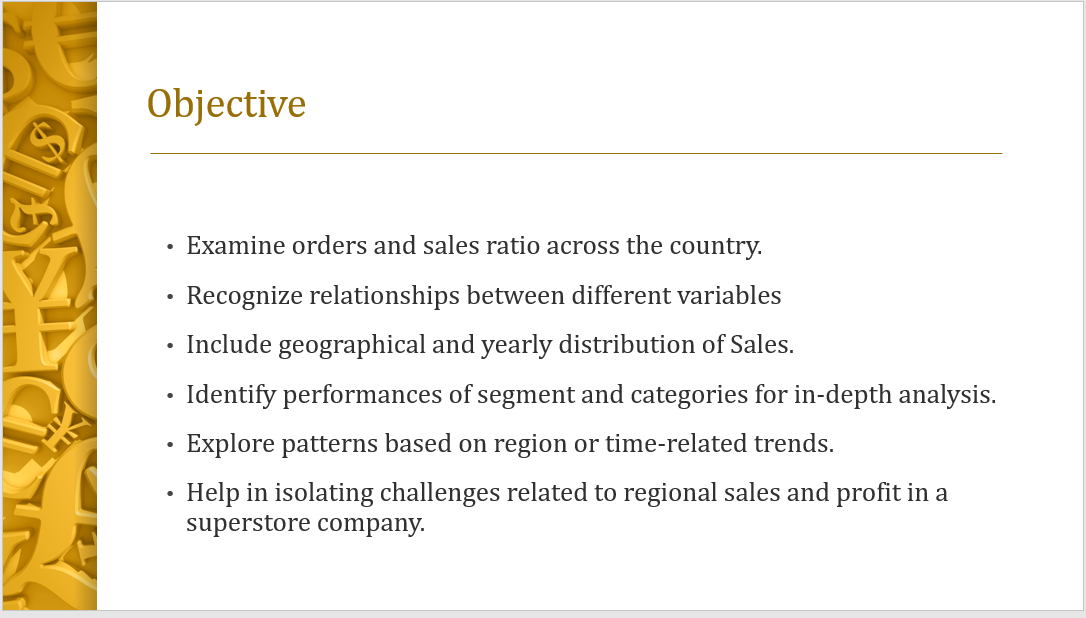

What the dashboard file says about the page in this screenshot:
{"tool":"tableau","page":{"name":"Objective","canvas":[1000,1000],"units":"permille","ordinal":3},"visuals":[{"type":"worksheet","box":[0,0,1000,1000]},{"type":"worksheet","param":"Image/SecPage.PNG","box":[4.8,9.3,990.3,981.4]}]}

Visuals, with their boxes on the dashboard's canvas, which has no fixed pixel size, in thousandths of its width and height (x1, y1, x2, y2). These are canvas units, not pixel positions in the 1086x618 screenshot, which may show the page scaled, cropped or inside an application window:
worksheet: 0:0:1000:1000
worksheet: 5:9:995:991
